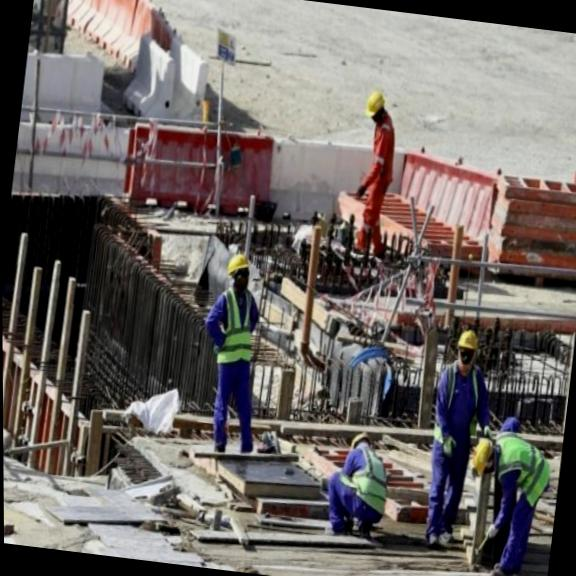safety_vest: (492, 436, 554, 502), (217, 288, 263, 366)
